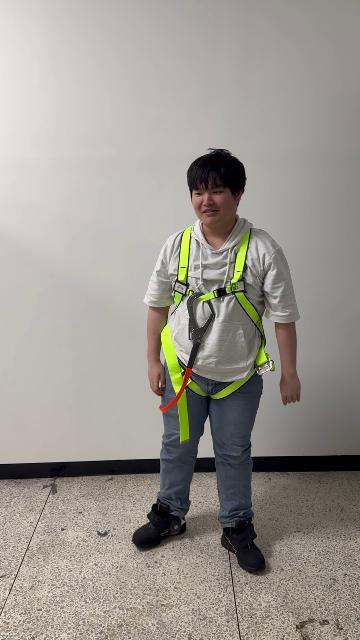helmet_not_worn: (186, 147, 247, 209)
shoe_worn: (132, 500, 187, 547), (221, 519, 265, 572)
vest_worn: (158, 227, 270, 435)
